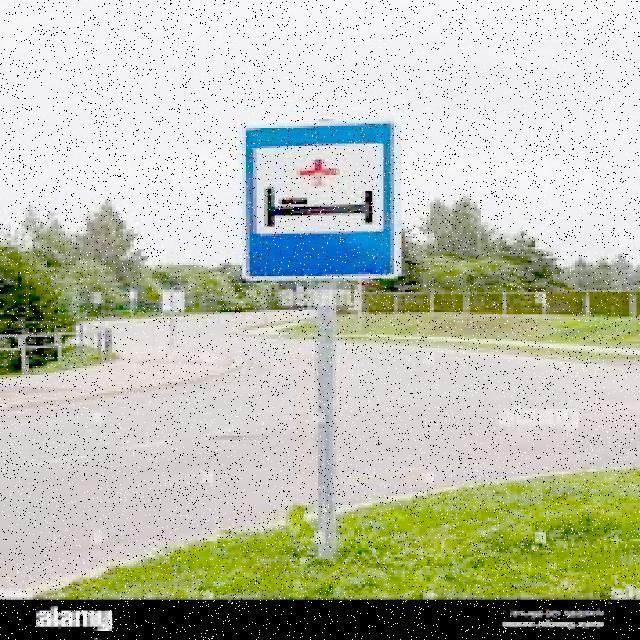Traffic sign: (238, 114, 406, 286)
